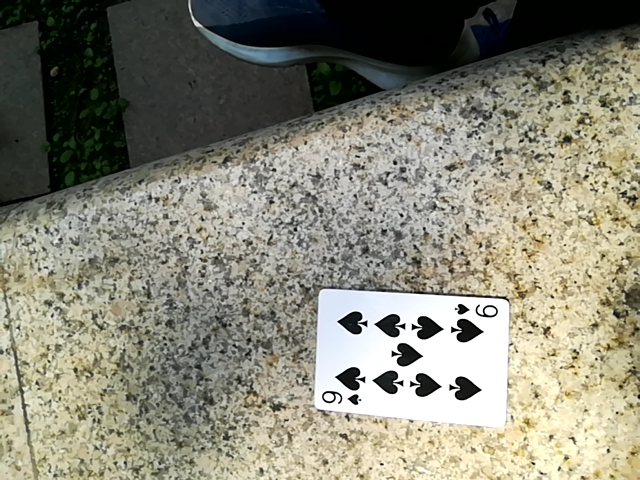ht 9: (305, 287, 506, 422)
